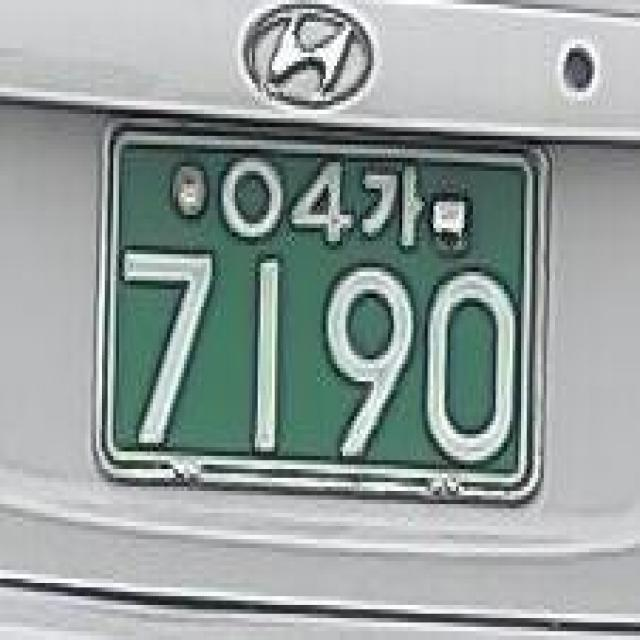illegal_plate: (74, 100, 561, 529)
